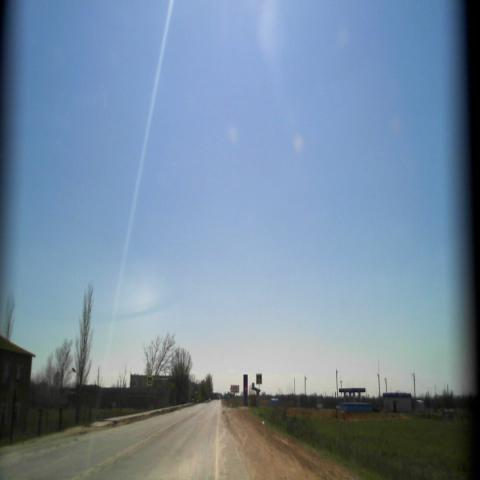5_19_1: (146, 374, 154, 386), (255, 373, 262, 384)
